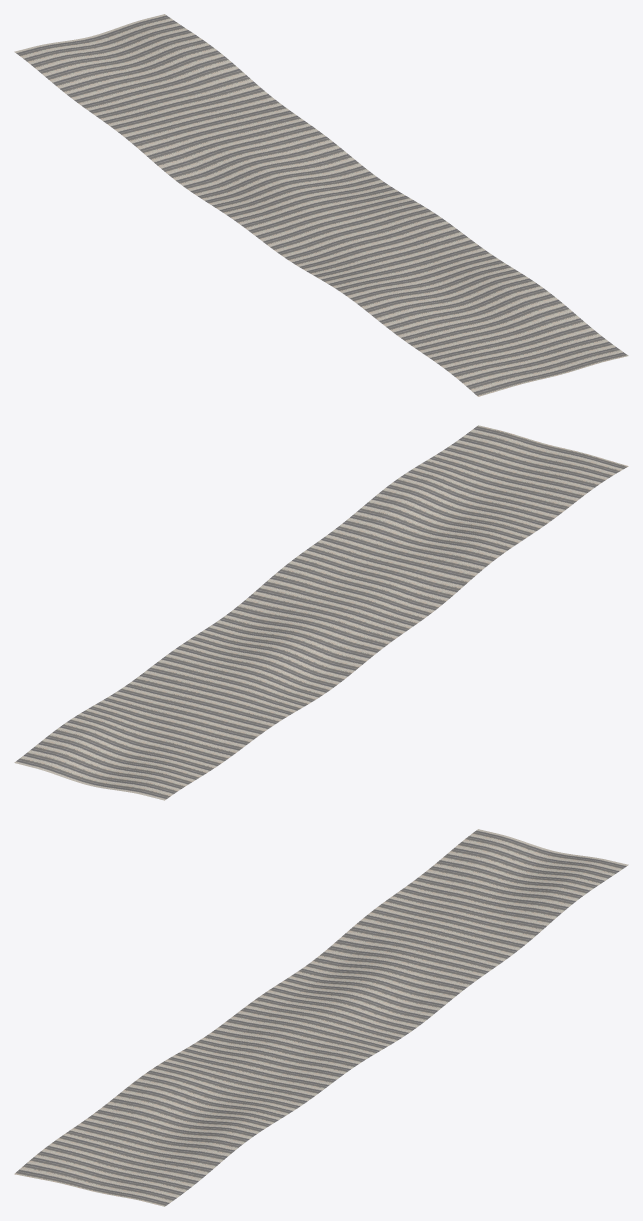
Rendered from terrain.obj.
3 renders of one model, top to bottom at view 1: azimuth 30°, elevation 25°; view 2: azimuth 150°, elevation 25°; view 3: azimuth 330°, elevation 25°, orthographic.
Visible parts, largest first — view 1: GE3_Terrain; view 2: GE3_Terrain; view 3: GE3_Terrain.
Boxes of the visible parts, bbox=[...] form: GE3_Terrain: bbox=[14, 14, 628, 396]; GE3_Terrain: bbox=[14, 425, 628, 800]; GE3_Terrain: bbox=[14, 829, 628, 1206].
Bounding box in the file's own units: 60 × 5.64 × 320.
